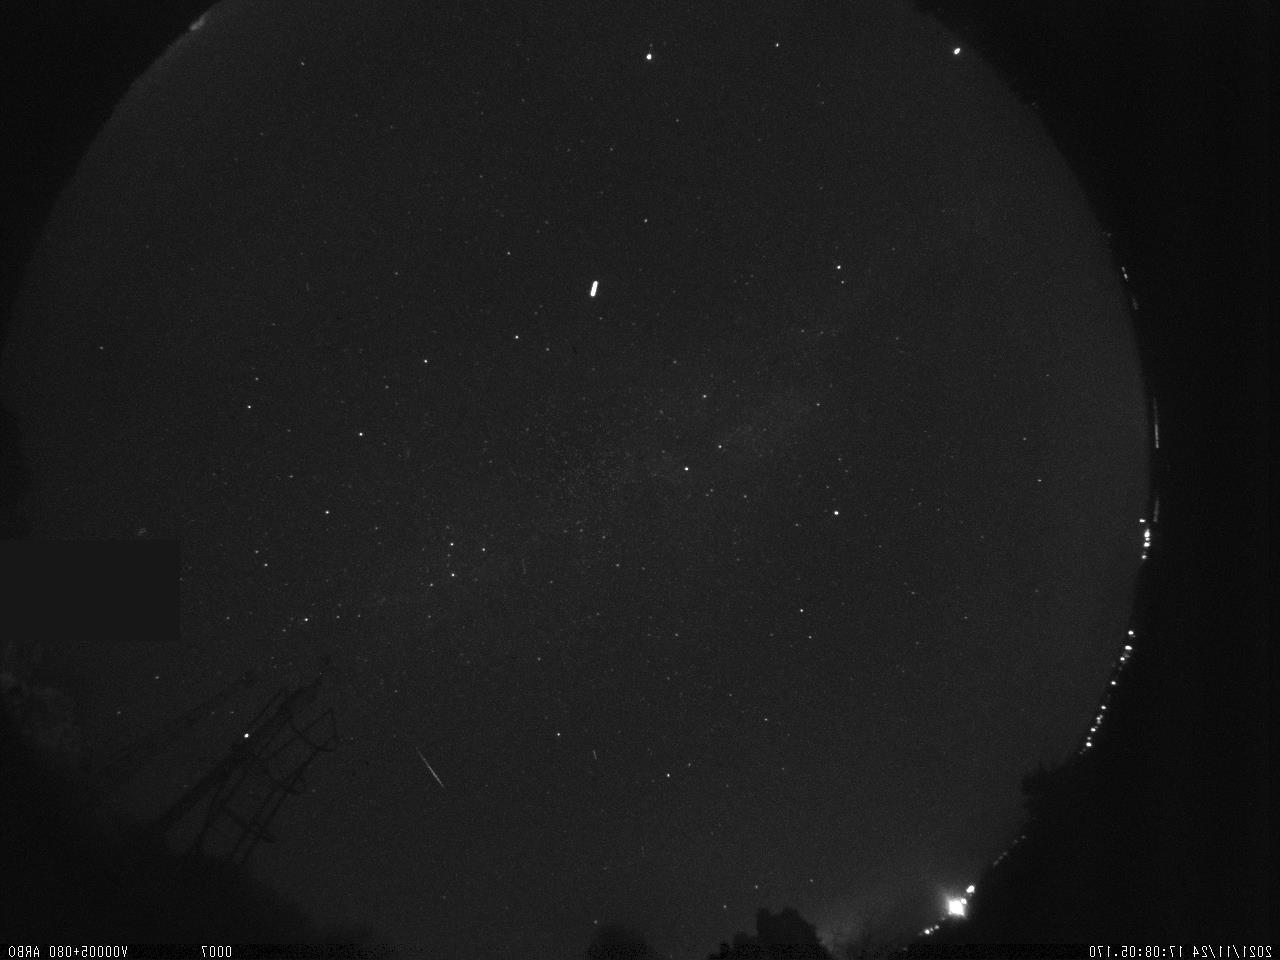meteor: (404, 737, 459, 799)
